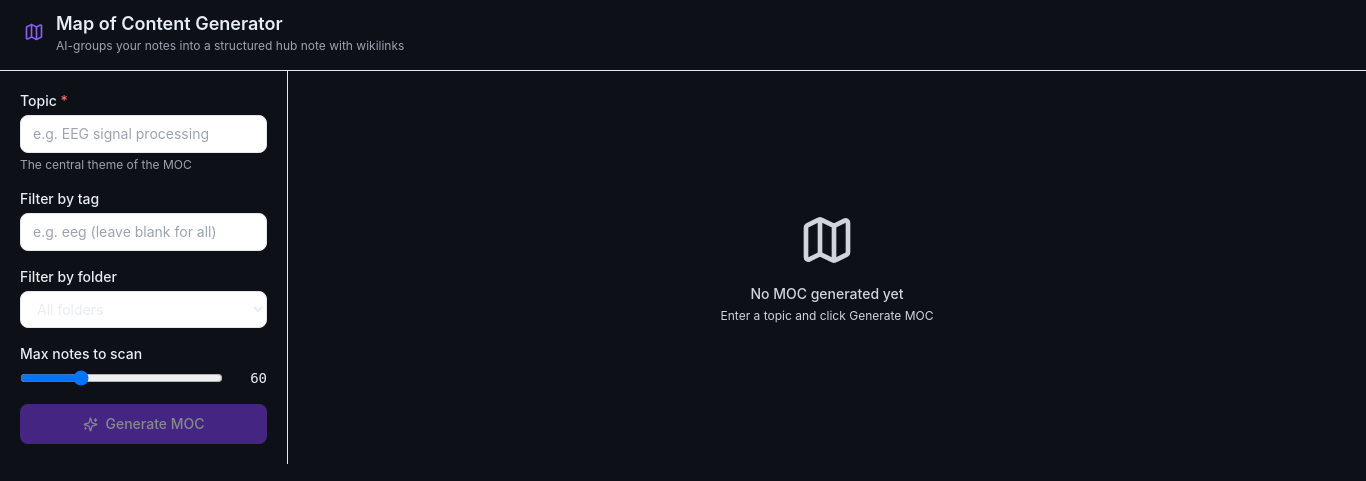
Test case: MocPage — initial render › enables Generate button after typing a topic
In the field with placeholder "e.g. EEG signal processing": (144, 134) [20,115,267,153], type "EEG"
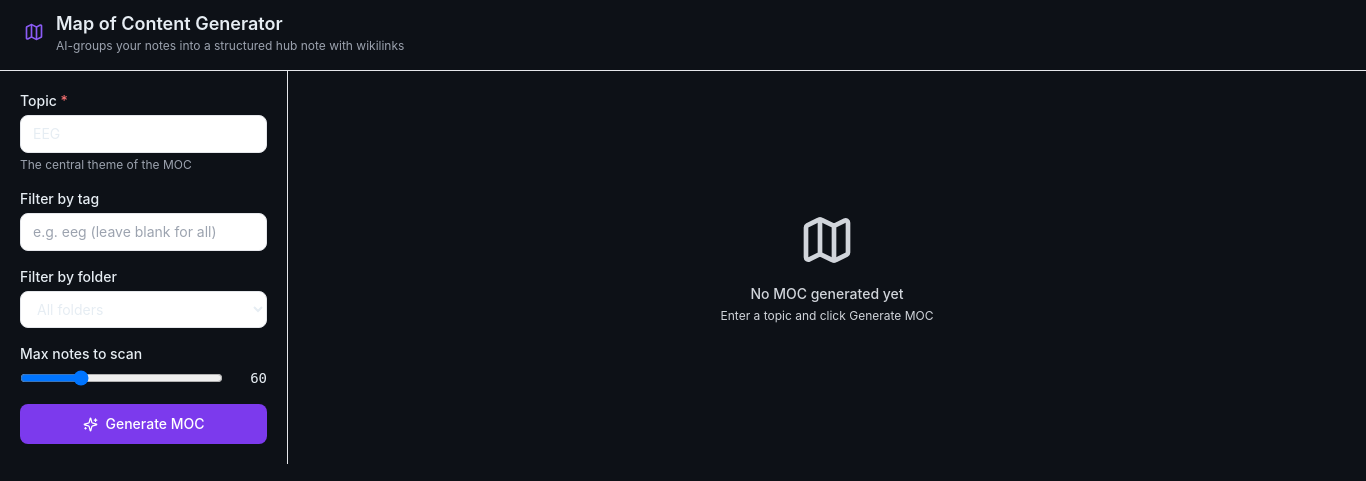
Result: the button "Generate MOC" is enabled at [20,404,267,444]
